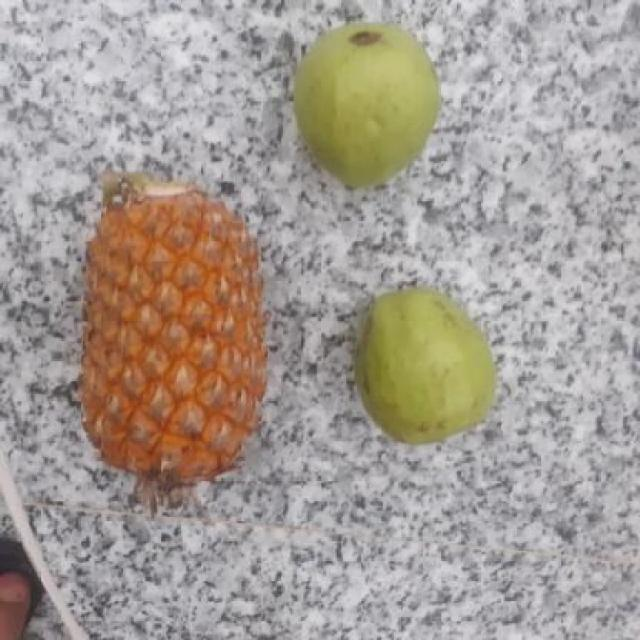guava: (286, 22, 448, 190), (348, 288, 498, 442)
pineapple: (76, 159, 267, 496)
